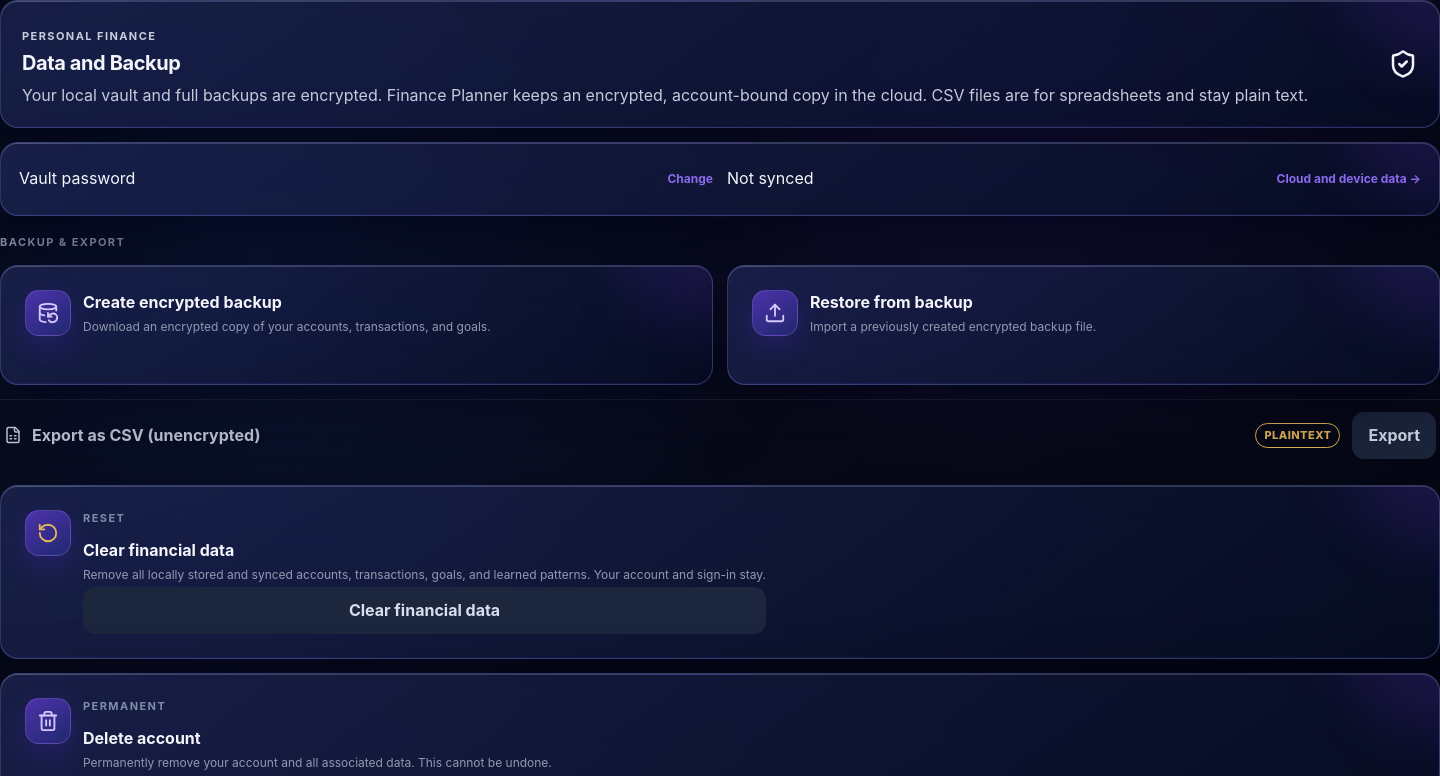
Test: DataTools overview › navigates into and back out of the vault-password sub-page
This screenshot has width=1440, height=776.
Click the button "Change" at [690, 179], box [668,157,713,201]
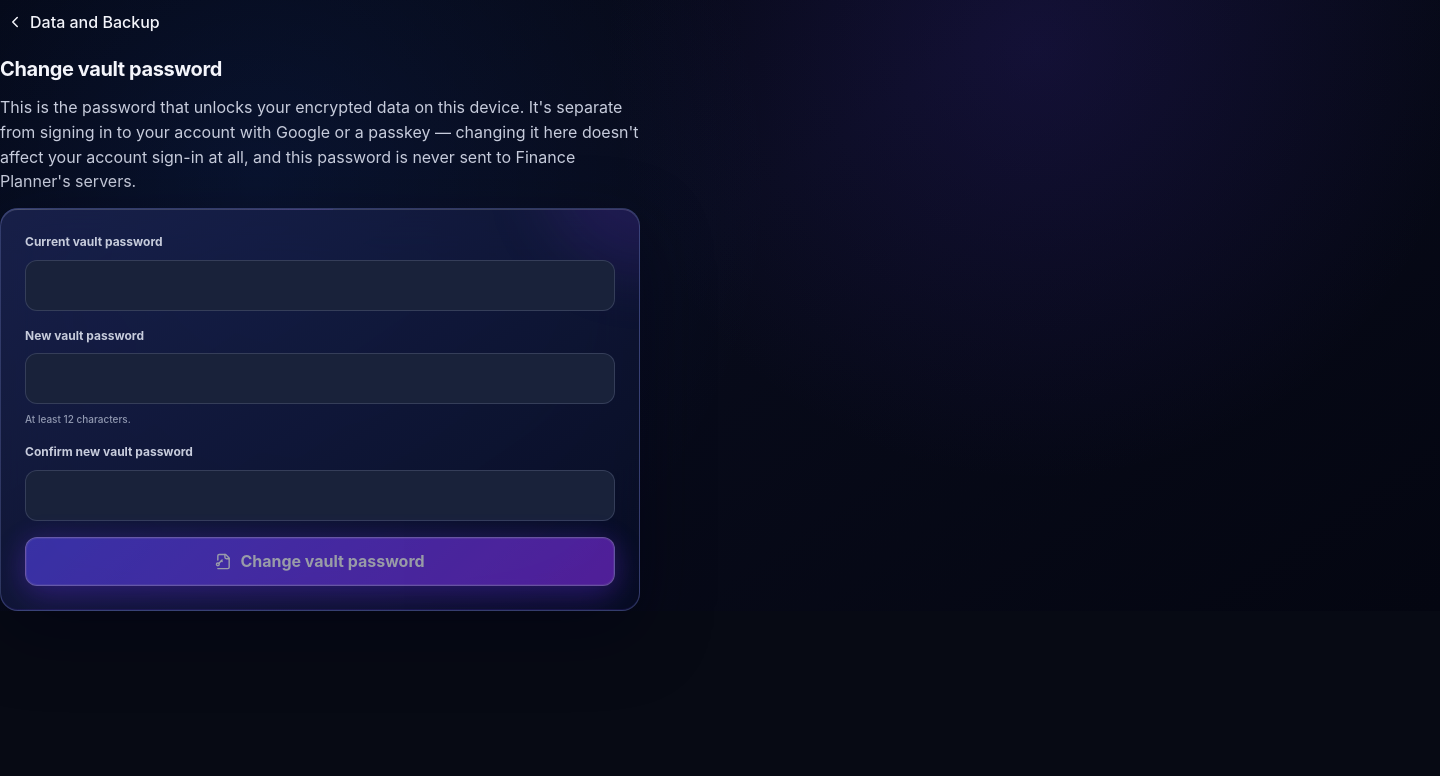
Expected: the heading "Change vault password" is shown, [0,57,222,81]
Click the button "Data and Backup" at [83, 22], box [0,0,166,44]
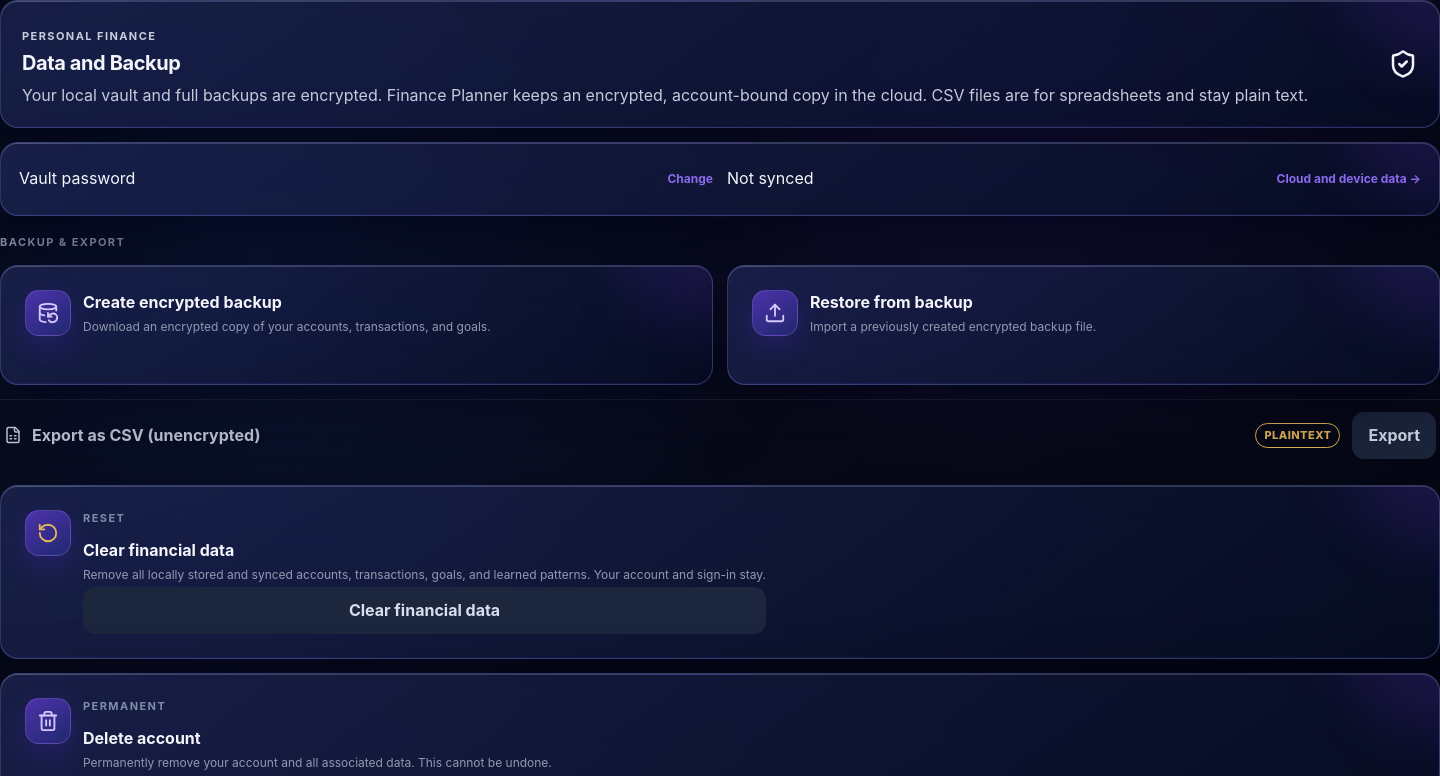
Expected: the heading "Data and Backup" is shown, [22,51,180,75]
